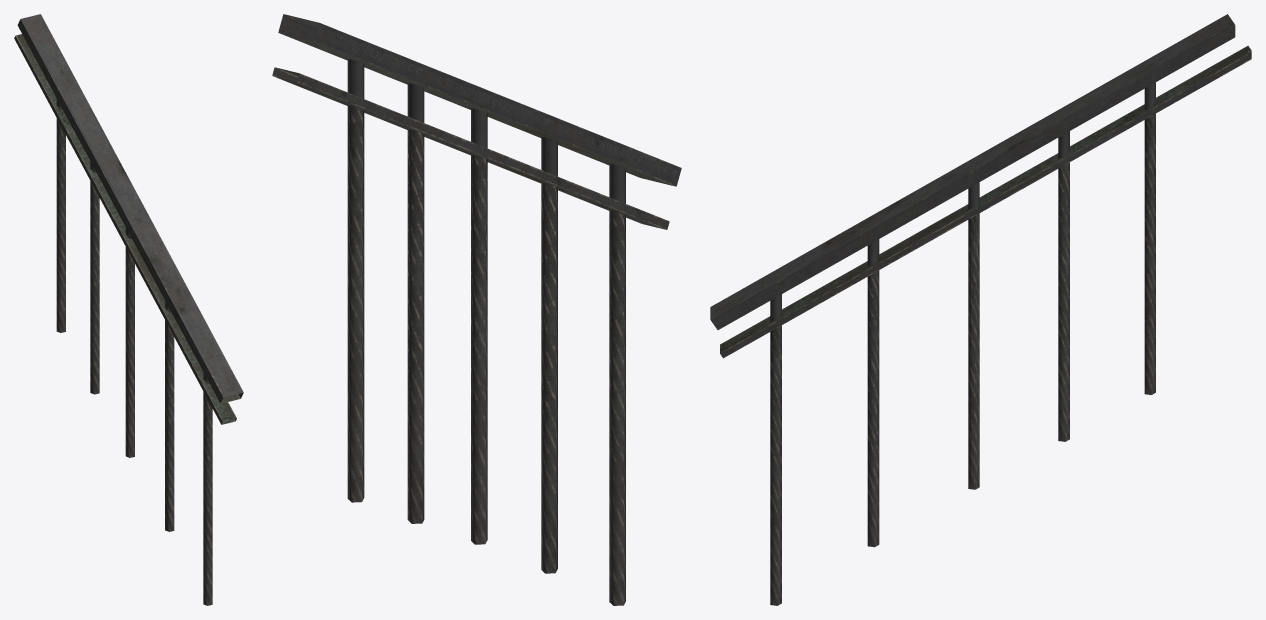
The model's file is SM_fence_2m_02.fbx.
3 renders of one model, left to right at view 1: azimuth 30°, elevation 25°; view 2: azimuth 150°, elevation 25°; view 3: azimuth 270°, elevation 25°, orthographic. The views are drawn at different scales.
Visible parts, largest first — view 1: SM_fence_2m_02_LOD0; view 2: SM_fence_2m_02_LOD0; view 3: SM_fence_2m_02_LOD0.
Boxes of the visible parts, x1=… form: SM_fence_2m_02_LOD0: x1=14, y1=14, x2=243, y2=605; SM_fence_2m_02_LOD0: x1=272, y1=14, x2=681, y2=605; SM_fence_2m_02_LOD0: x1=710, y1=14, x2=1251, y2=605.
Bounding box in the file's own units: 9.3 × 168 × 199.
1 material, 1 textured.
